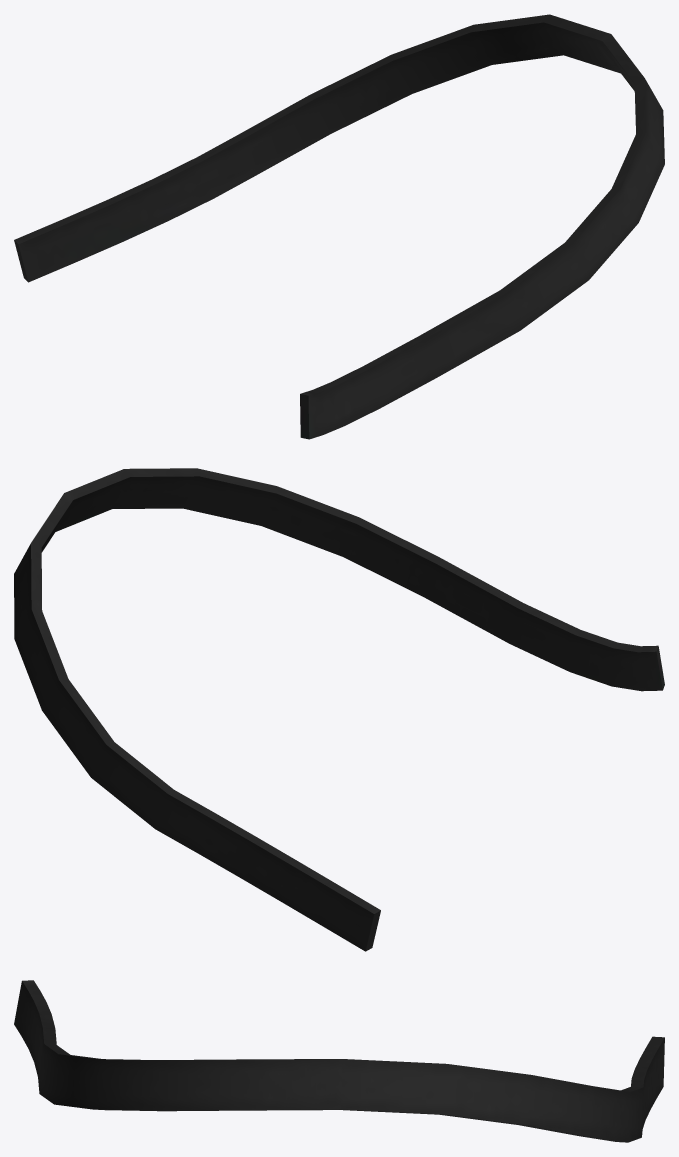
Rendered from CylindersStrap.FBX.
The picture shows the model from 3 angles, top to bottom: view 1: azimuth 30°, elevation 25°; view 2: azimuth 150°, elevation 25°; view 3: azimuth 270°, elevation 25°; orthographic projection. The views are drawn at different scales.
Visible parts, largest first — view 1: CylindersStrap; view 2: CylindersStrap; view 3: CylindersStrap.
Boxes of the visible parts, x1,y1,x2,y2 form: CylindersStrap: (14,14,664,439); CylindersStrap: (14,468,664,951); CylindersStrap: (14,980,664,1142).
Size of the model in its own units: 47.99 by 23.47 by 51.42.
